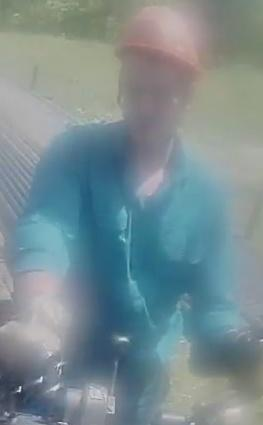gloves: (2, 281, 68, 378), (212, 317, 263, 386)
helmet: (111, 0, 211, 85)
vest: (8, 122, 239, 371)
